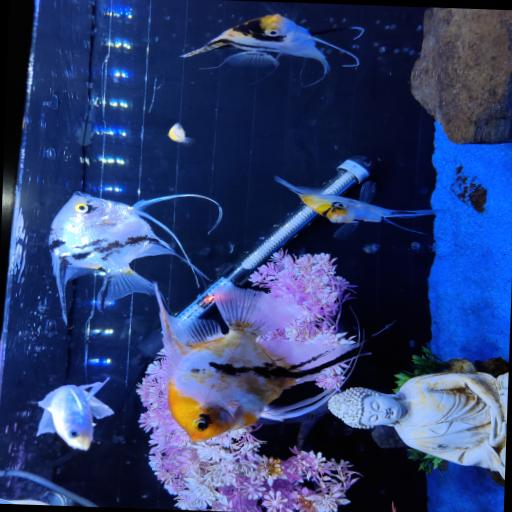Fish: (156, 286, 357, 442), (49, 192, 222, 324), (181, 14, 358, 84), (275, 177, 448, 237), (37, 378, 113, 450), (169, 123, 195, 145), (392, 501, 396, 511)
